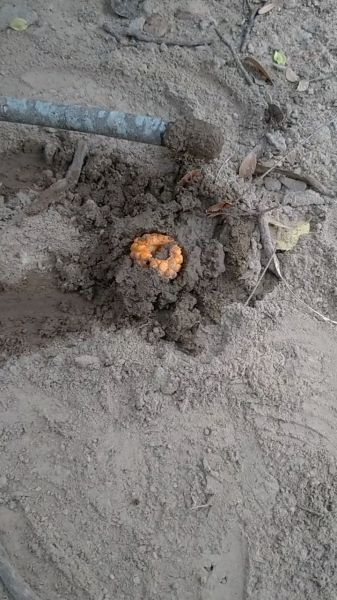eggs: (121, 226, 196, 284)
